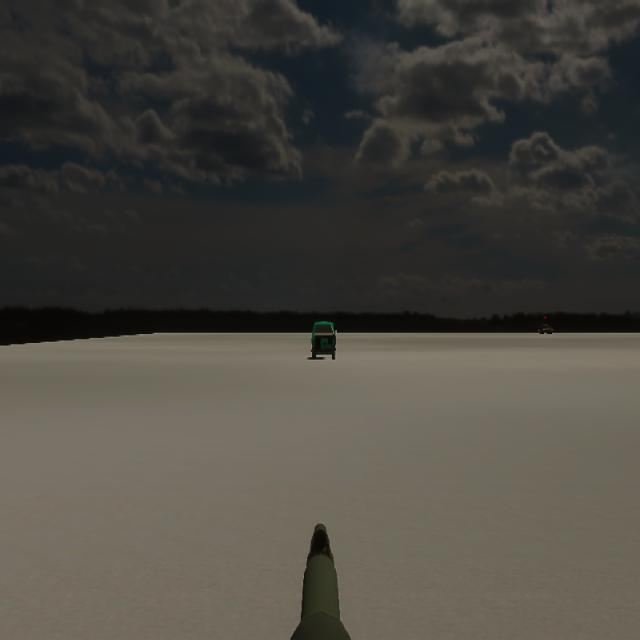green_car: (310, 320, 338, 360)
